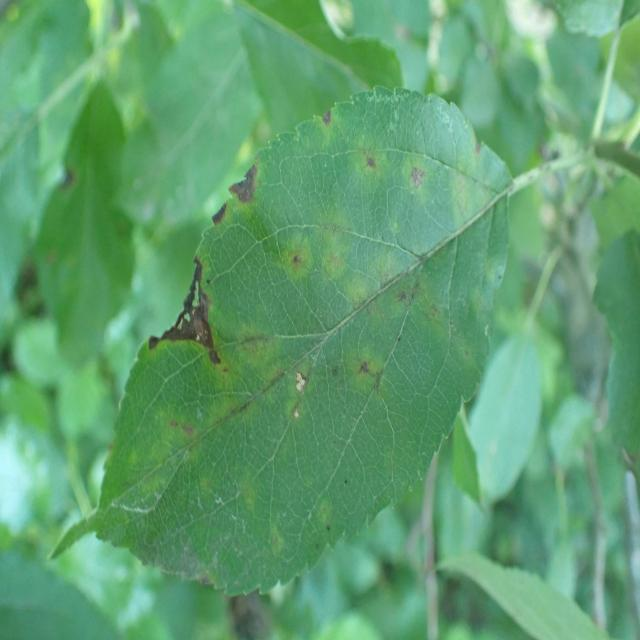scab: (267, 220, 457, 440), (156, 399, 309, 565), (320, 97, 493, 218), (190, 301, 274, 394)
